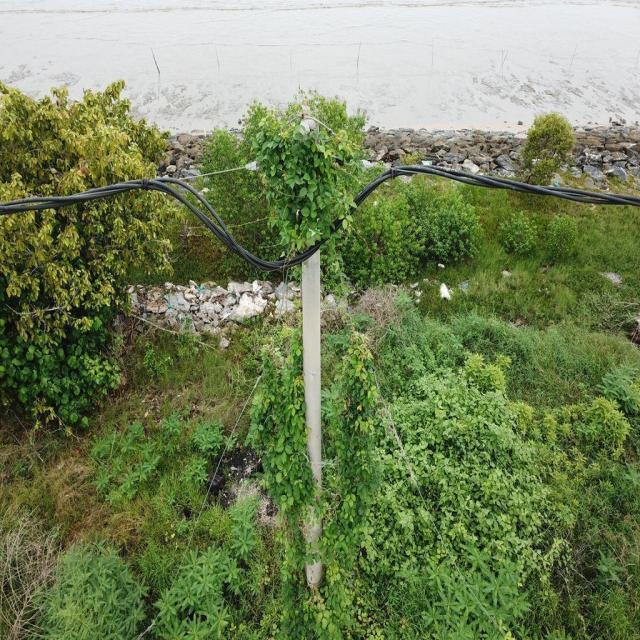critical vegetation: (245, 330, 384, 578), (245, 106, 356, 260)
